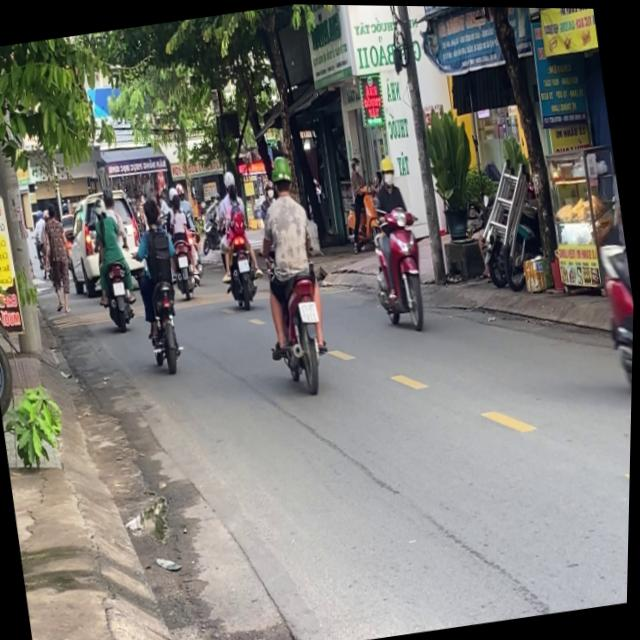helmet: (270, 153, 297, 196), (379, 152, 399, 185)
licenseplate: (243, 149, 344, 396), (572, 120, 638, 417), (356, 148, 438, 334), (124, 188, 194, 375)
motorcyclist: (141, 194, 165, 230)
nohelmet: (300, 300, 321, 324)
